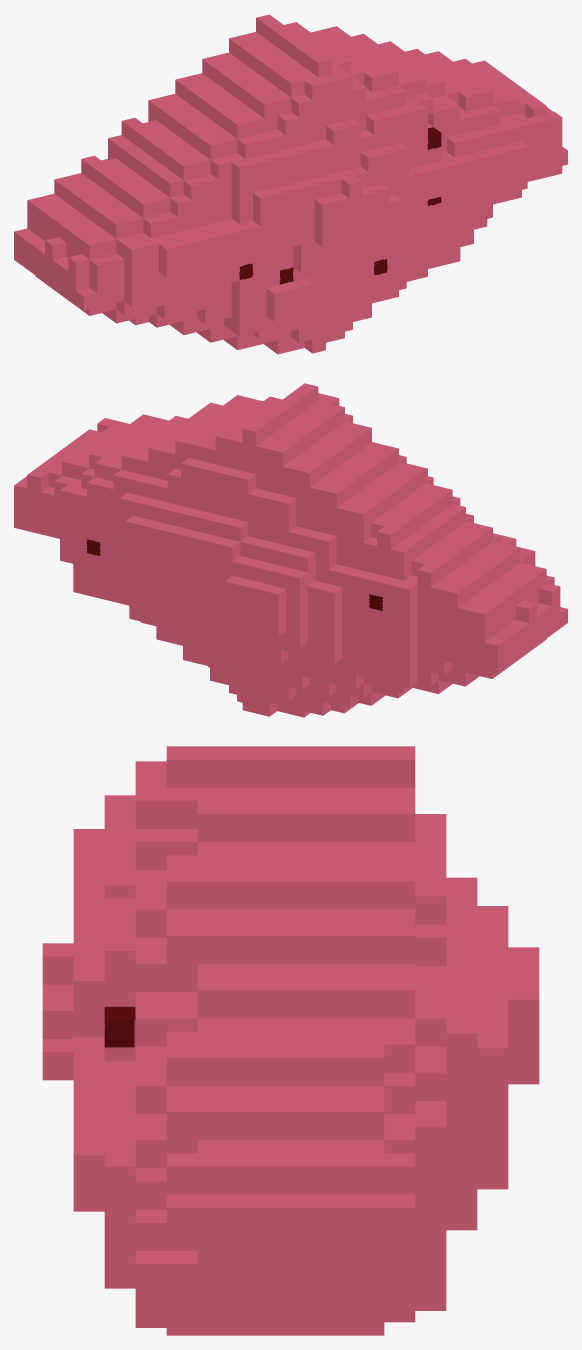
Rendered from satumaimo.glb.
The picture shows the model from 3 angles, top to bottom: view 1: azimuth 30°, elevation 25°; view 2: azimuth 150°, elevation 25°; view 3: azimuth 270°, elevation 25°; orthographic projection. The views are drawn at different scales.
Visible parts, largest first — view 1: satumaimo; view 2: satumaimo; view 3: satumaimo.
Part boxes in pixels (bbox=[...]): satumaimo: bbox=[14, 14, 567, 354]; satumaimo: bbox=[14, 383, 567, 717]; satumaimo: bbox=[42, 746, 539, 1335].
Bounding box in the file's own units: 0.72 × 0.4 × 0.32.
1 material, 1 textured.
